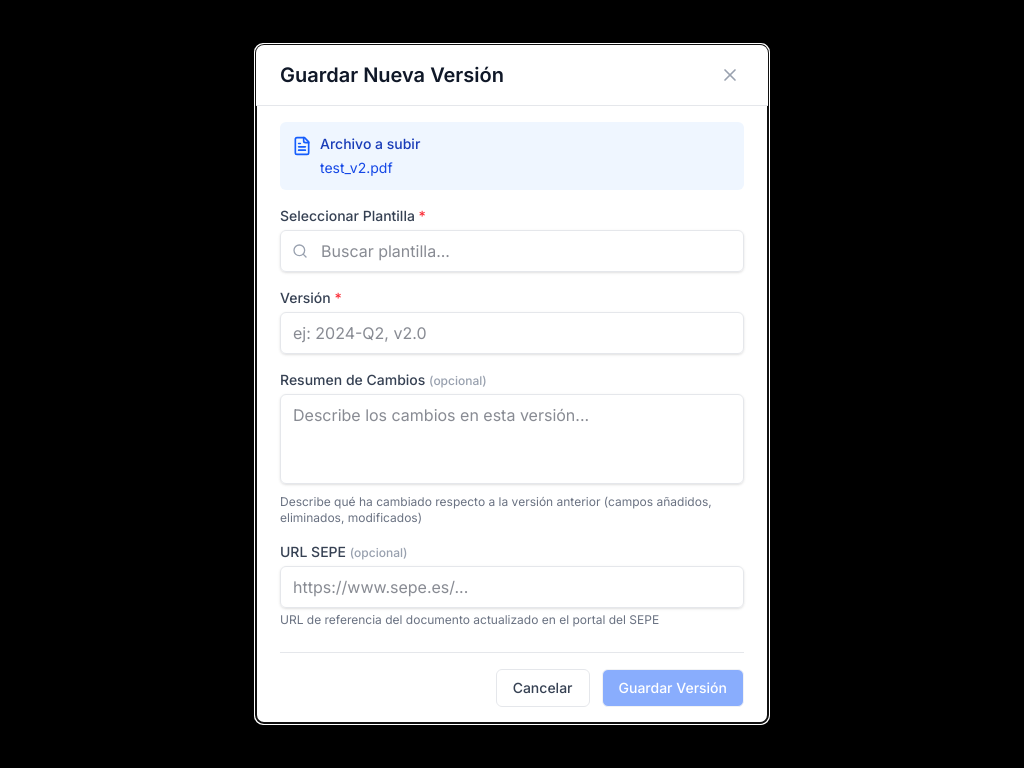
VersionUploadModal › Template Selection › should select template when clicked
Click the field with placeholder "Buscar plantilla...".
click(512, 251)  # box [280, 230, 744, 272]
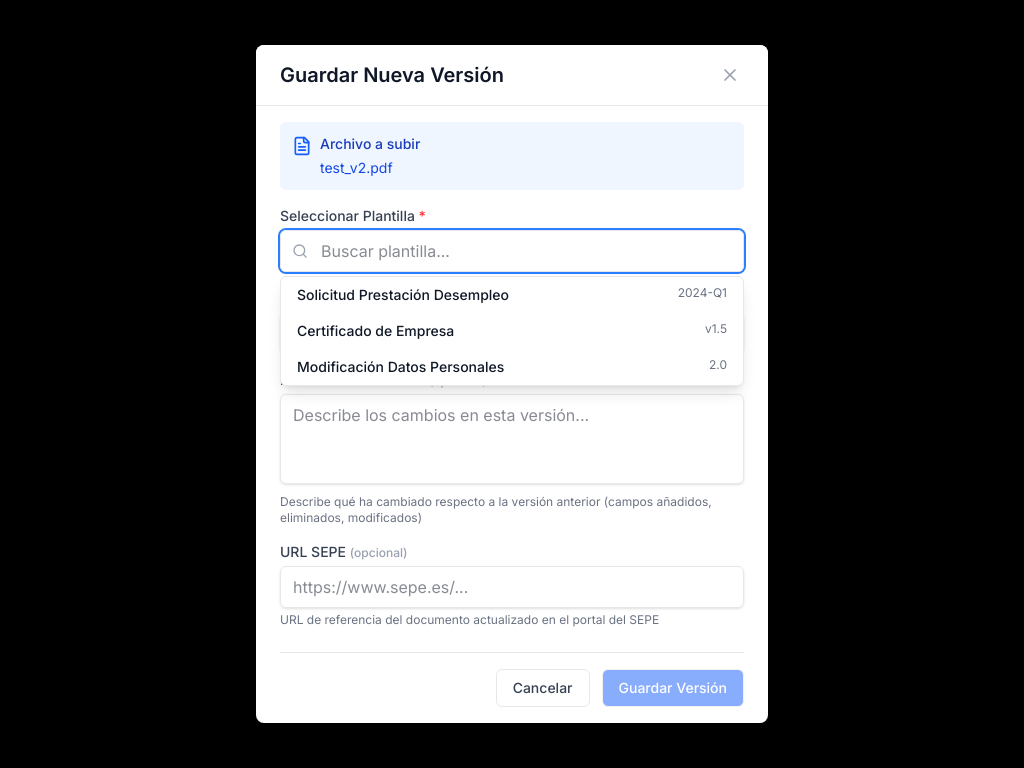
Expected: the text "Certificado de Empresa" is shown
Click the text "Certificado de Empresa".
click(376, 331)  # box [297, 321, 454, 341]
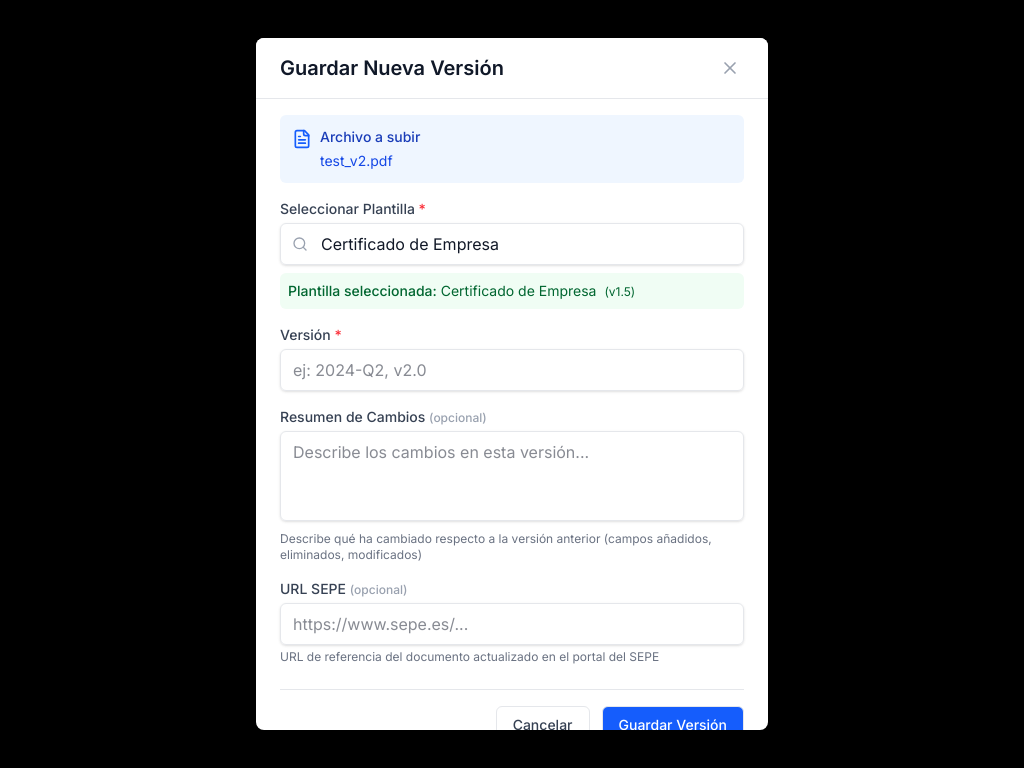
Expected: the text "Plantilla seleccionada:" is shown, [288, 282, 437, 299]
Expected: the text "Plantilla seleccionada: Certificado de Empresa(v1.5)" is shown, [288, 282, 635, 299]
